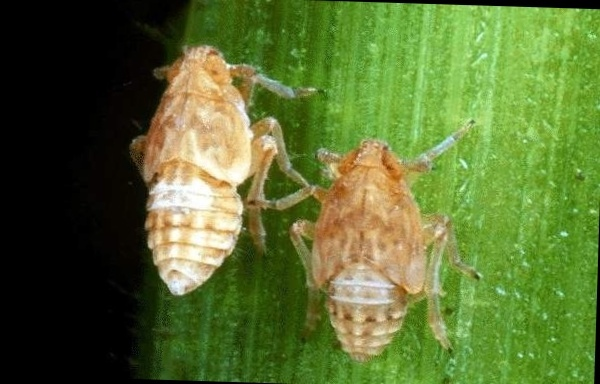Brown_hopper: (288, 116, 473, 367), (131, 38, 283, 305)
